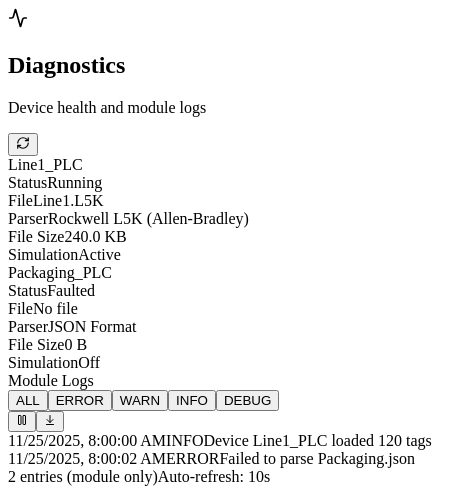
Test case: DiagnosticsView › filters the log by level
Expected: the text "Device Line1_PLC loaded 120 tags" is shown, [203,432,432,449]
Click the button "ERROR": (80, 400) [48,390,112,411]
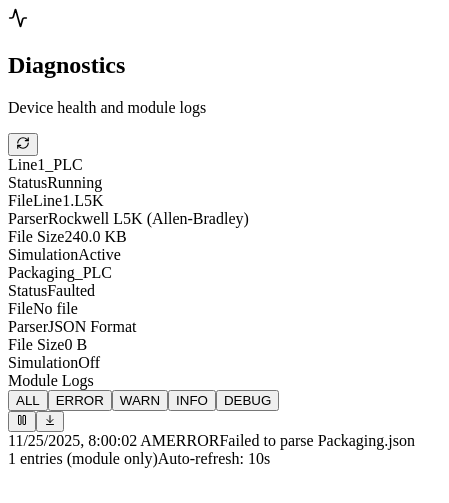
Expected: the text "Failed to parse Packaging.json" is shown, [219,432,415,449]
Result: the text "Device Line1_PLC loaded 120 tags" is gone
